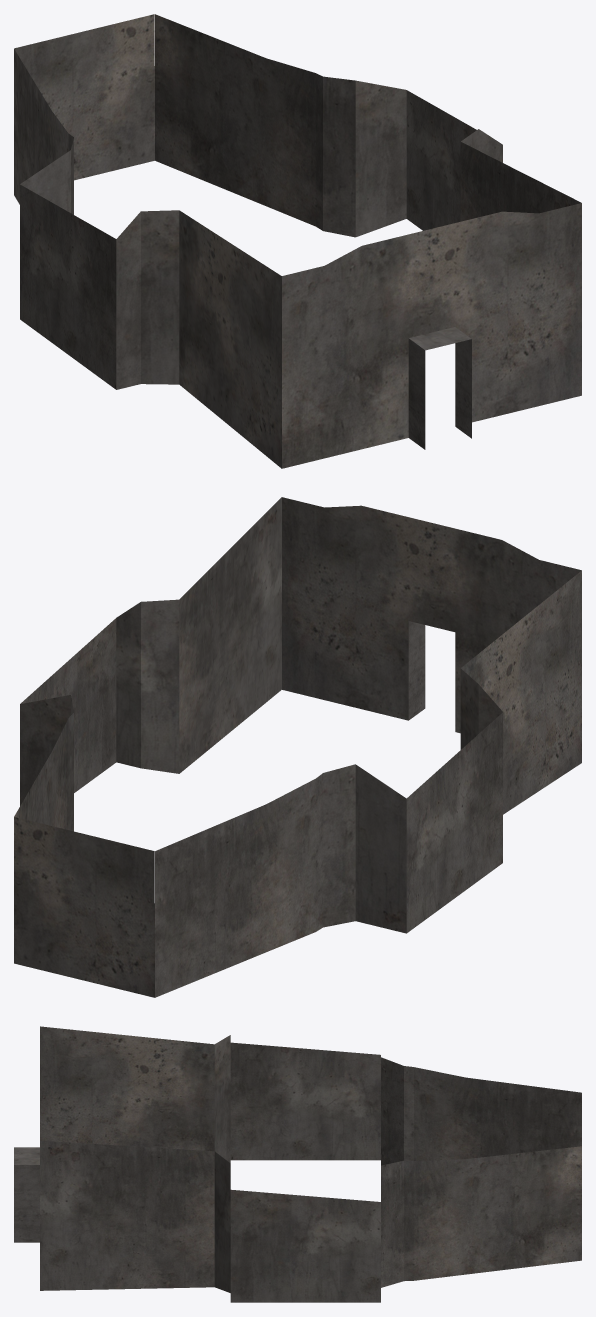
Rendered from fbxTestFile.fbx.
The picture shows the model from 3 angles, top to bottom: view 1: azimuth 30°, elevation 25°; view 2: azimuth 150°, elevation 25°; view 3: azimuth 270°, elevation 25°; orthographic projection. The views are drawn at different scales.
Visible parts, largest first — view 1: 02 MR Main Wall Base.002; view 2: 02 MR Main Wall Base.002; view 3: 02 MR Main Wall Base.002.
Part boxes in pixels (<box>): 02 MR Main Wall Base.002: <box>14,14,581,468</box>; 02 MR Main Wall Base.002: <box>14,497,581,997</box>; 02 MR Main Wall Base.002: <box>14,1026,581,1302</box>.
Bounding box in the file's own units: 1480 × 744 × 2414.
